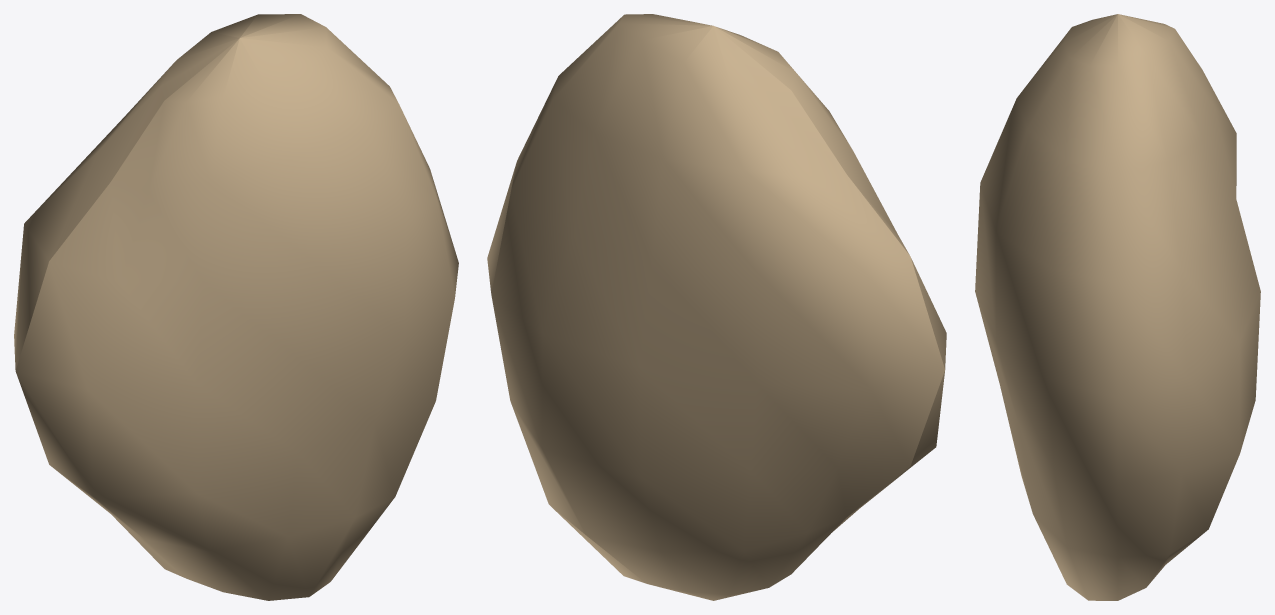
File: right_patella.glb
3 views of the same model, side by side, from view 1: azimuth 30°, elevation 25°; view 2: azimuth 150°, elevation 25°; view 3: azimuth 270°, elevation 25° (orthographic). The views are drawn at different scales.
Parts seen in each view (by area): view 1: right_patella:body; view 2: right_patella:body; view 3: right_patella:body.
Part boxes in pixels (<box>): right_patella:body: <box>14,14,458,600</box>; right_patella:body: <box>487,14,946,600</box>; right_patella:body: <box>975,14,1260,600</box>.
Size of the model in its own units: 0.0625 by 0.075 by 0.035.
